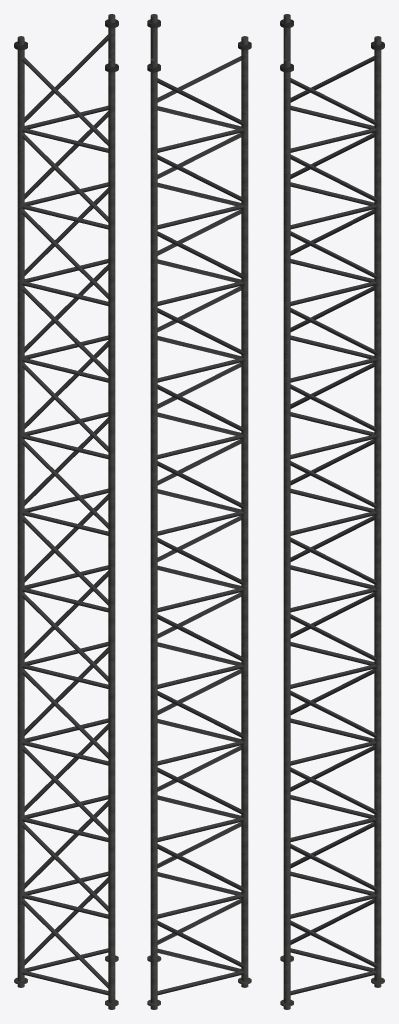
File: communication_tower_5ft.glb
3 views of the same model, side by side, from view 1: azimuth 90°, elevation 25°; view 2: azimuth 150°, elevation 25°; view 3: azimuth 270°, elevation 25° (orthographic).
Visible parts, largest first — view 1: Object_5, Object_35; view 2: Object_5, Object_35; view 3: Object_5, Object_35.
Boxes of the visible parts, box(x1,y1,x2,y2) form: Object_5: box(14, 19, 118, 995); Object_35: box(14, 14, 118, 1009); Object_5: box(147, 19, 251, 995); Object_35: box(147, 14, 251, 1009); Object_5: box(280, 19, 384, 995); Object_35: box(280, 14, 384, 1009).
Bounding box in the file's own units: 5.67 × 50 × 5.
Materials: 2 (1 with a texture image).
